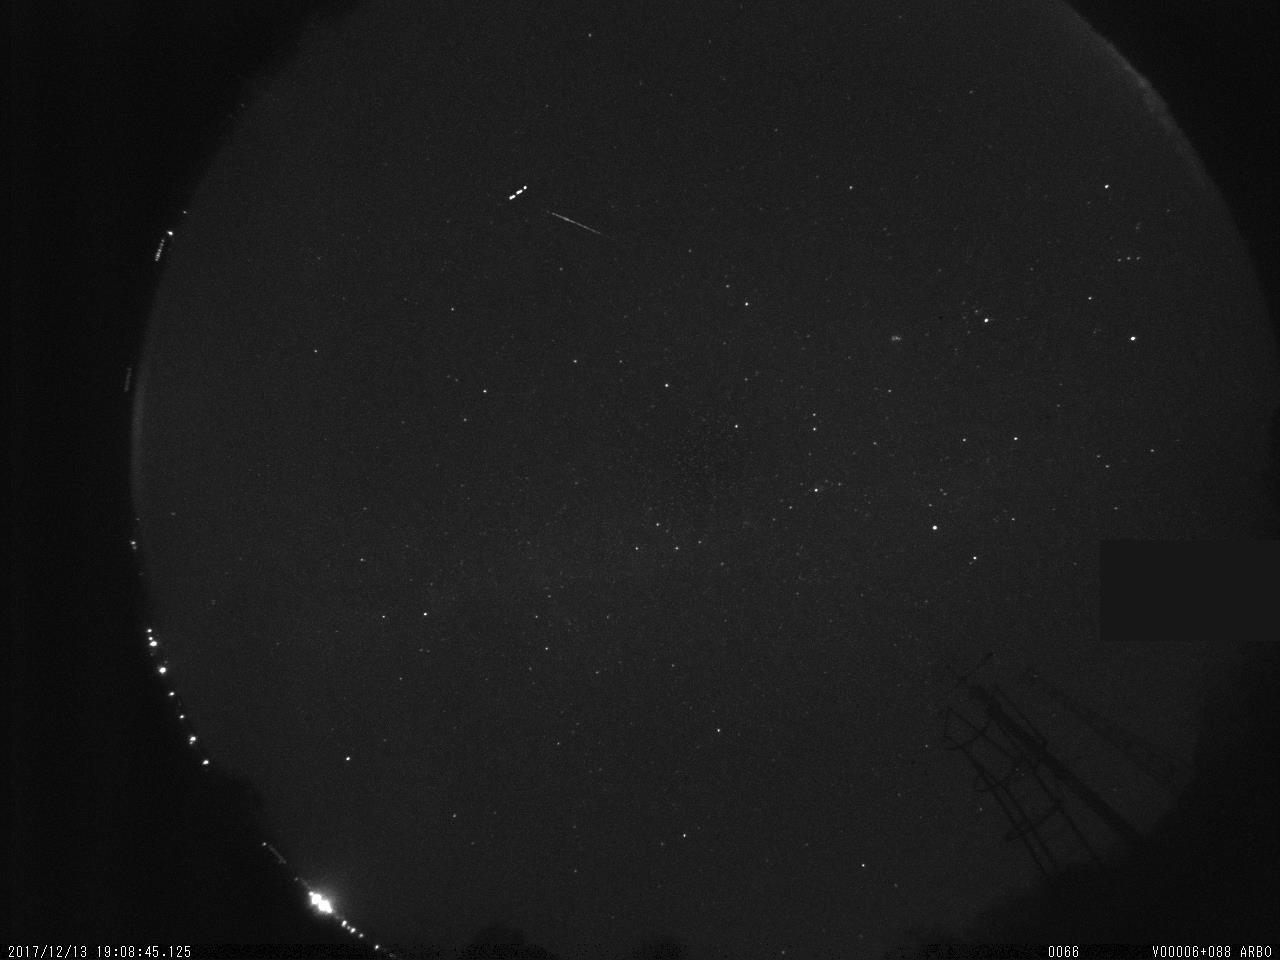meteor: (544, 201, 615, 247)
satelite: (501, 171, 534, 210)
